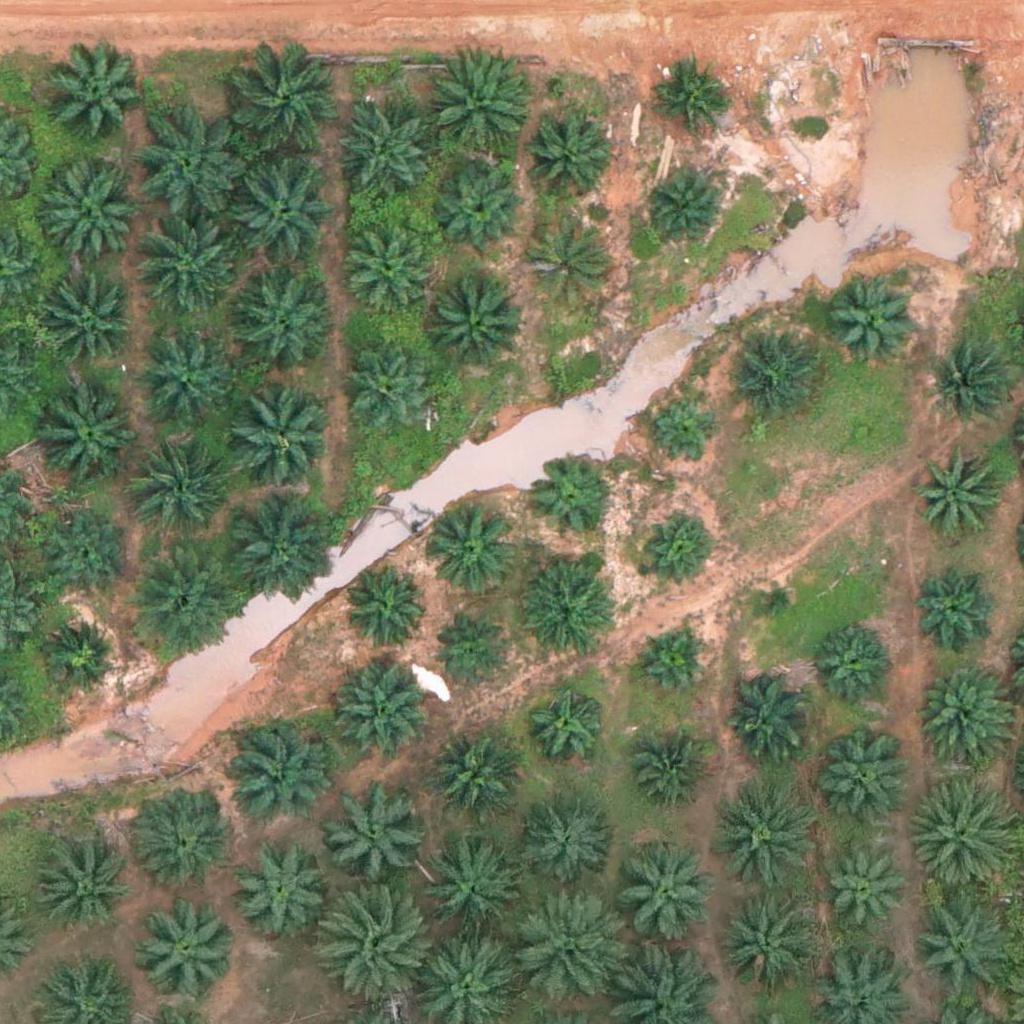Kelapa_Sawit: (225, 261, 338, 375), (421, 48, 534, 162), (509, 888, 622, 1002), (29, 372, 142, 485), (131, 108, 244, 221), (128, 552, 241, 665), (229, 156, 342, 269), (217, 373, 330, 486), (31, 155, 143, 268), (134, 212, 246, 325), (122, 433, 234, 546), (228, 44, 340, 157), (221, 496, 333, 609), (909, 779, 1021, 892), (319, 887, 431, 1000), (41, 46, 141, 147), (34, 267, 134, 368), (339, 97, 439, 198), (513, 566, 613, 667), (915, 665, 1015, 766), (816, 733, 916, 834), (614, 846, 714, 947), (326, 783, 426, 884), (224, 722, 324, 823), (132, 787, 232, 888), (32, 836, 132, 937), (913, 900, 1013, 1001), (137, 897, 237, 998), (133, 325, 233, 425), (421, 268, 521, 368), (725, 331, 825, 431), (714, 788, 814, 888), (329, 669, 429, 769), (228, 838, 328, 938), (717, 892, 817, 992), (517, 789, 617, 889), (424, 844, 524, 944), (649, 52, 737, 140), (522, 221, 610, 309), (37, 612, 125, 700), (343, 223, 431, 311), (346, 343, 434, 431), (436, 162, 524, 250), (526, 110, 614, 198), (912, 566, 1000, 654), (819, 853, 907, 941), (725, 671, 813, 759), (918, 450, 1005, 539), (644, 168, 731, 256), (43, 508, 130, 596), (931, 341, 1018, 429), (824, 271, 911, 359), (530, 454, 617, 542), (429, 734, 516, 822), (625, 735, 712, 823), (809, 612, 896, 700), (424, 503, 511, 591), (342, 566, 429, 654), (527, 688, 602, 764), (633, 628, 708, 704), (639, 511, 714, 587), (650, 391, 725, 467), (437, 619, 512, 694), (750, 572, 800, 622)
